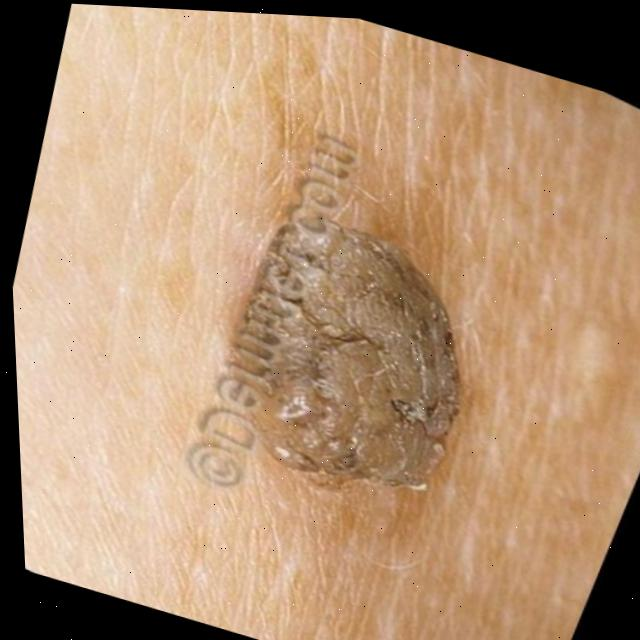Eczema: (217, 173, 493, 505)
